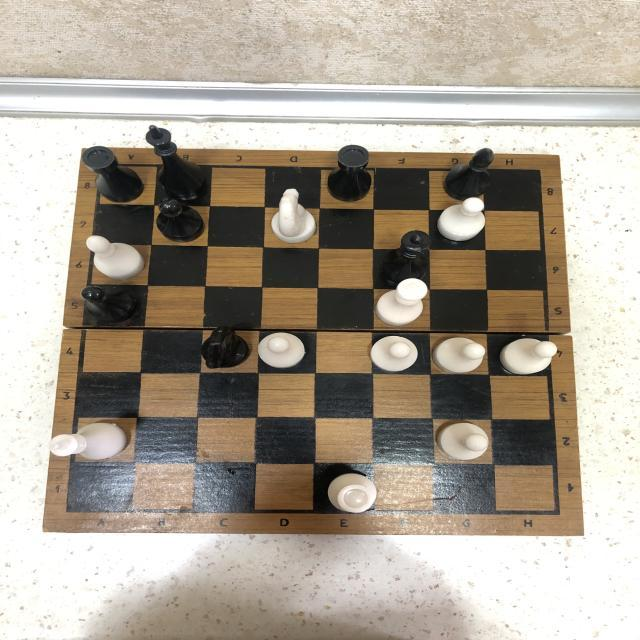chess-table-corners: (52, 496, 91, 528), (522, 157, 555, 187), (540, 497, 572, 523)
